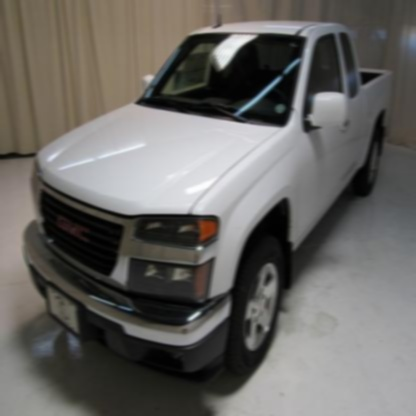Vehicle: (23, 14, 394, 378)
